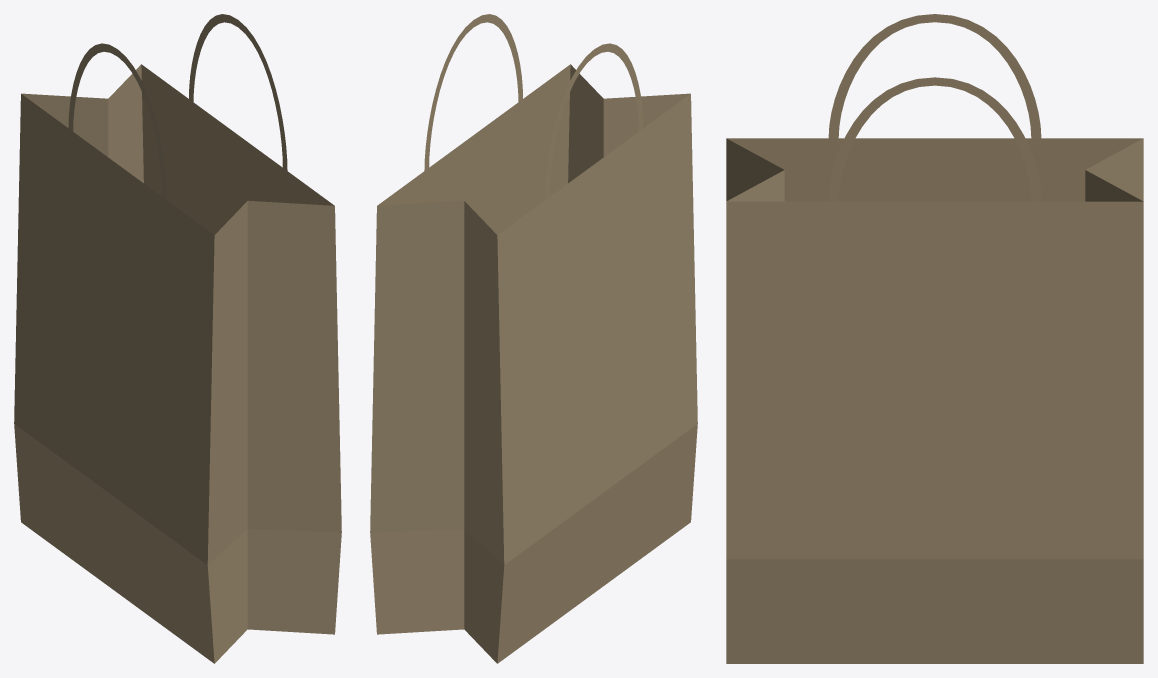
File: sack.fbx
3 views of the same model, side by side, from view 1: azimuth 30°, elevation 25°; view 2: azimuth 150°, elevation 25°; view 3: azimuth 270°, elevation 25° (orthographic). The views are drawn at different scales.
Visible parts, largest first — view 1: Cube; view 2: Cube; view 3: Cube.
Part boxes in pixels (bbox=[...]): Cube: bbox=[14, 14, 341, 663]; Cube: bbox=[370, 14, 697, 663]; Cube: bbox=[726, 14, 1143, 663].
Bounding box in the file's own units: 16 × 62 × 40.
